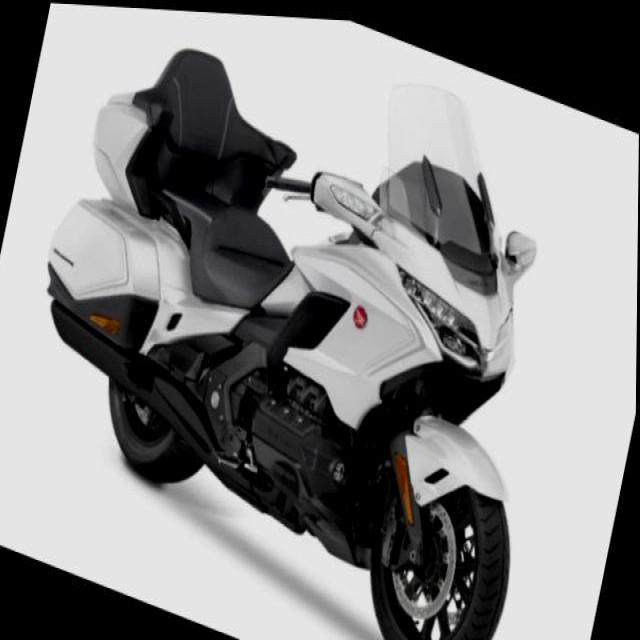Gold Wing: (0, 0, 601, 639)
